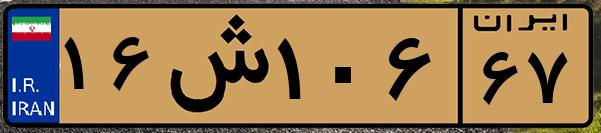0: (330, 28, 385, 110)
1: (270, 28, 330, 110), (57, 26, 110, 100)
6: (385, 28, 445, 110), (475, 38, 525, 113), (110, 28, 158, 98)
7: (525, 38, 570, 115)
ش: (158, 12, 270, 120)
